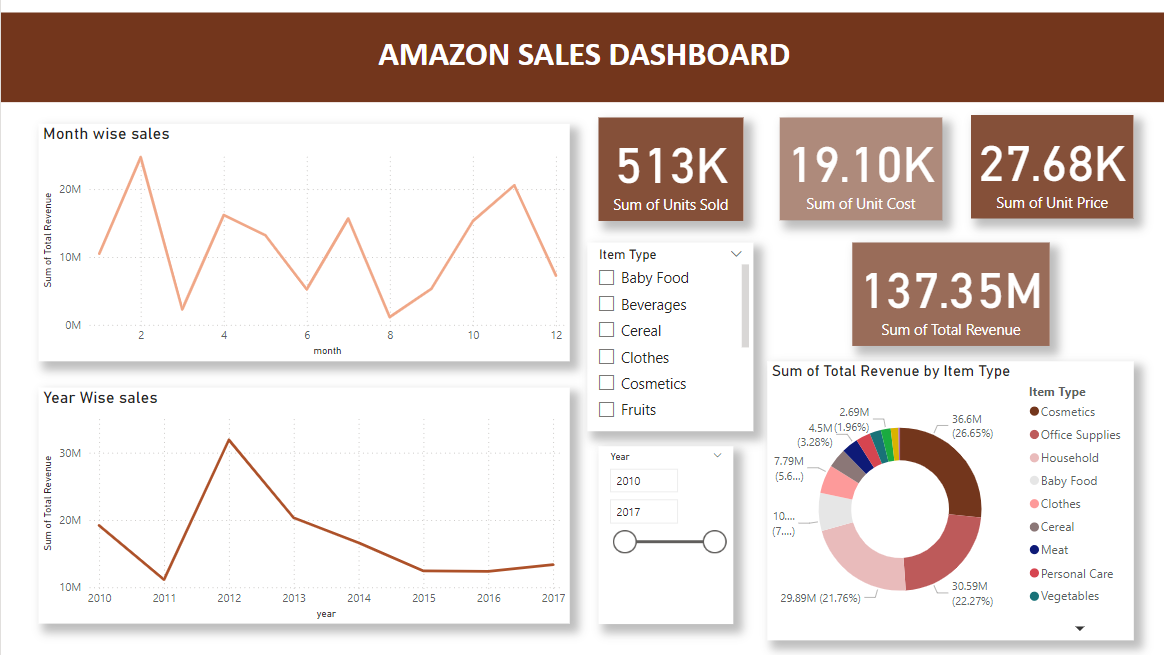

Layout of this report page (visuals, bound fields, positions):
{"tool":"powerbi","page":{"name":"Page 1","canvas":[1280,720],"ordinal":0},"visuals":[{"type":"textbox","box":[0,13.7,1280.3,98.8],"z":0},{"type":"card","fields":{"Values":["Sum(preprocessed_amazon_data.Units Sold)"]},"box":[655.9,129,159.2,113.9],"z":1000},{"type":"card","fields":{"Values":["Sum(preprocessed_amazon_data.Total Revenue)"]},"box":[934.5,266.2,216.8,113.9],"z":3000},{"type":"card","fields":{"Values":["Sum(preprocessed_amazon_data.Unit Price)"]},"box":[1064.8,126.2,178.4,113.9],"z":4000},{"type":"card","fields":{"Values":["Sum(preprocessed_amazon_data.Unit Cost)"]},"box":[854.9,129,178.4,112.5],"z":5000},{"type":"slicer","fields":{"Values":["preprocessed_amazon_data.Item Type"]},"box":[643.6,266.2,182.5,207.2],"z":6000},{"type":"slicer","fields":{"Values":["preprocessed_amazon_data.year"]},"box":[655.9,489.9,148.2,194.9],"z":7000},{"type":"lineChart","title":"Month wise sales","fields":{"Category":["preprocessed_amazon_data.month"],"Y":["Sum(preprocessed_amazon_data.Total Revenue)"]},"box":[41.2,135.8,583.2,260.7],"z":8000},{"type":"lineChart","title":"Year Wise sales","fields":{"Category":["preprocessed_amazon_data.year"],"Y":["Sum(preprocessed_amazon_data.Total Revenue)"]},"box":[41.2,425.4,583.2,259.3],"z":9000},{"type":"donutChart","fields":{"Y":["Sum(preprocessed_amazon_data.Total Revenue)"],"Category":["preprocessed_amazon_data.Item Type"]},"box":[841.2,396.6,402.1,306],"z":10000}]}

Visuals, with their boxes in screenshot pixels (x1, y1, x2, y2), scaled from the page's 1280x720 canvas onto the 1164x655 screenshot:
textbox: l=0, t=12, r=1163, b=102
card - Sum(preprocessed_amazon_data.Units Sold): l=596, t=117, r=741, b=221
card - Sum(preprocessed_amazon_data.Total Revenue): l=850, t=242, r=1047, b=346
card - Sum(preprocessed_amazon_data.Unit Price): l=968, t=115, r=1131, b=218
card - Sum(preprocessed_amazon_data.Unit Cost): l=777, t=117, r=940, b=220
slicer - preprocessed_amazon_data.Item Type: l=585, t=242, r=751, b=431
slicer - preprocessed_amazon_data.year: l=596, t=446, r=731, b=623
"Month wise sales" lineChart: l=37, t=124, r=568, b=361
"Year Wise sales" lineChart: l=37, t=387, r=568, b=623
donutChart - Sum(preprocessed_amazon_data.Total Revenue) x preprocessed_amazon_data.Item Type: l=765, t=361, r=1131, b=639
